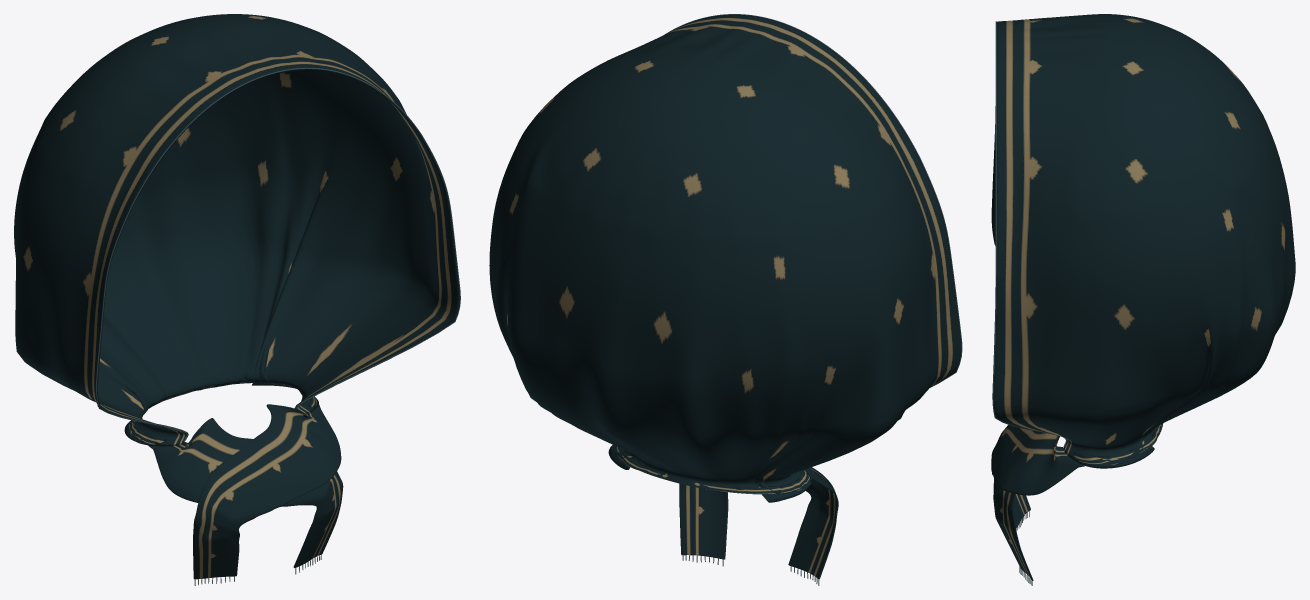
Rendered from Feminine-bandeau-pashmina236-headgear.glb.
3 views of the same model, side by side, from view 1: azimuth 30°, elevation 25°; view 2: azimuth 150°, elevation 25°; view 3: azimuth 270°, elevation 25° (orthographic). The views are drawn at different scales.
Parts seen in each view (by area): view 1: 226 headgear / Headwear / continuous woven pashmina236, 226 headgear / Headwear / face edge236; view 2: 226 headgear / Headwear / continuous woven pashmina236, 226 headgear / Headwear / face edge236; view 3: 226 headgear / Headwear / continuous woven pashmina236, 226 headgear / Headwear / face edge236.
Boxes of the visible parts, <box> form: 226 headgear / Headwear / continuous woven pashmina236: <box>14,14,459,579</box>; 226 headgear / Headwear / face edge236: <box>95,68,460,441</box>; 226 headgear / Headwear / continuous woven pashmina236: <box>489,14,961,579</box>; 226 headgear / Headwear / face edge236: <box>664,14,962,386</box>; 226 headgear / Headwear / continuous woven pashmina236: <box>991,14,1295,580</box>; 226 headgear / Headwear / face edge236: <box>992,21,1066,446</box>.
Bounding box in the file's own units: 1.02 × 1.35 × 0.7134.
Materials: 3 (1 with a texture image).
